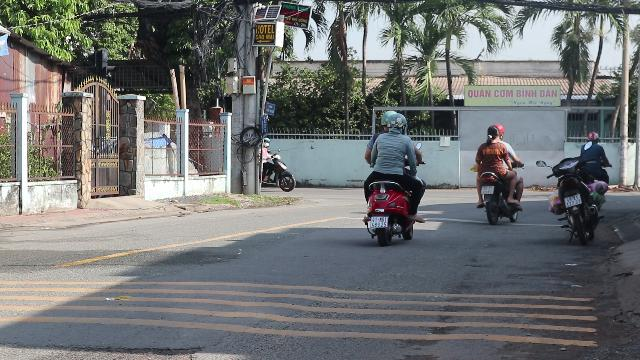helmet: (380, 110, 396, 130), (392, 112, 406, 132)
licenseplate: (370, 217, 388, 228)
motorcyclist: (359, 110, 427, 246)
